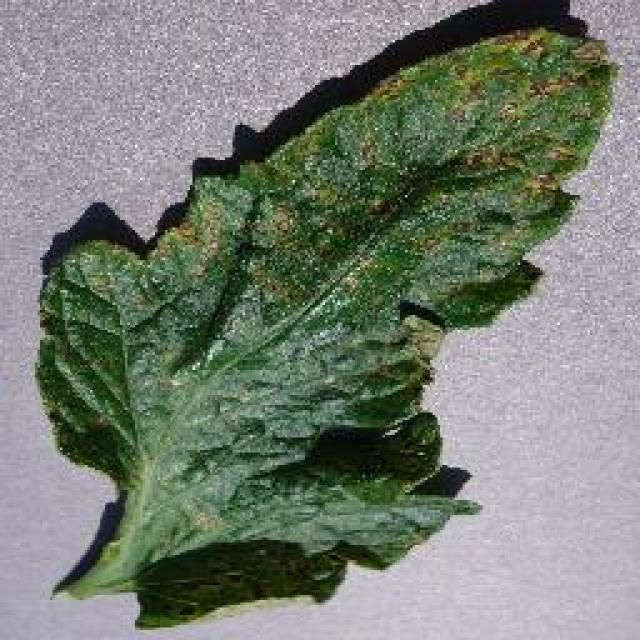Tomato Septoria spot leaf: (37, 32, 615, 630)
